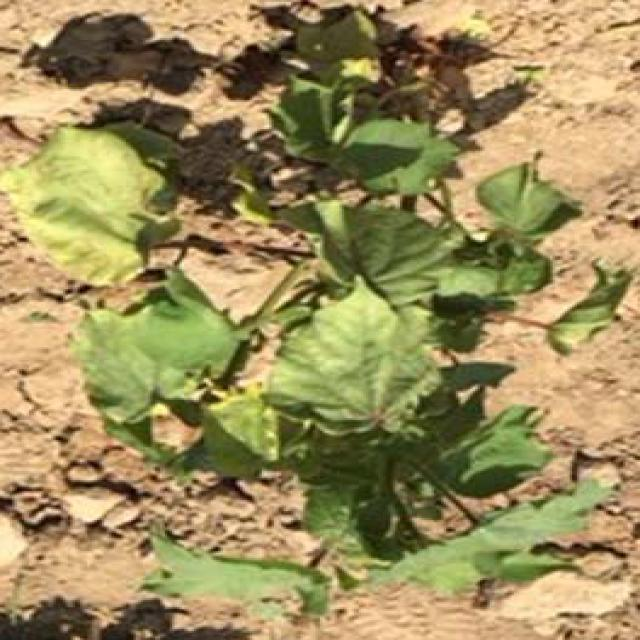Fusarium Wilt: (81, 4, 554, 510)
